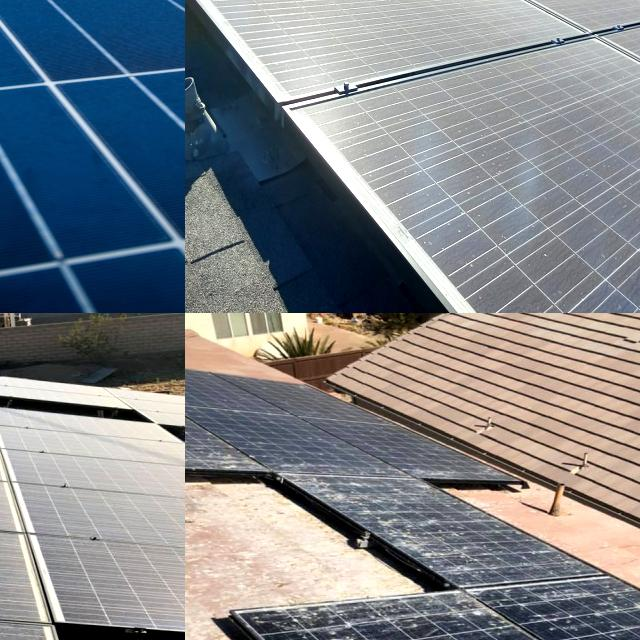bird: (323, 483, 508, 556), (415, 609, 586, 640), (284, 604, 389, 640)
crack: (0, 0, 185, 313)
dust: (421, 154, 640, 313), (548, 44, 640, 141), (240, 0, 351, 74), (403, 79, 536, 139), (208, 0, 412, 34), (0, 532, 86, 610), (372, 0, 506, 37), (428, 0, 529, 47), (0, 516, 49, 593), (226, 0, 351, 27), (526, 0, 640, 27), (185, 0, 214, 61)
